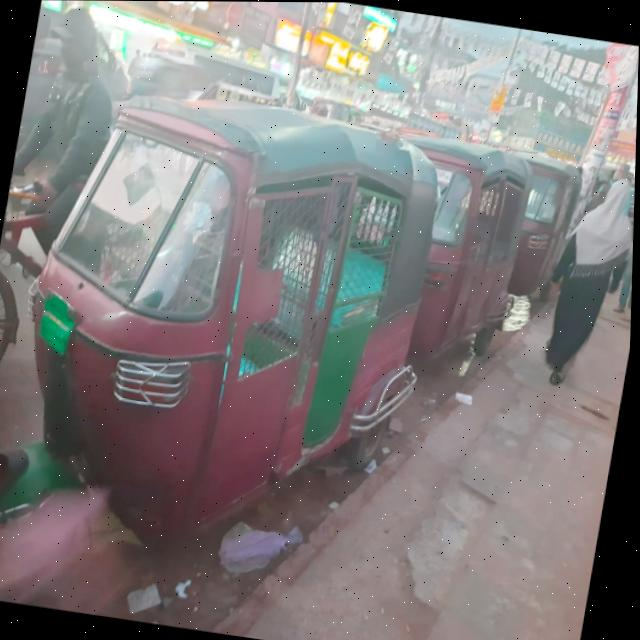cng: (0, 47, 479, 566)
